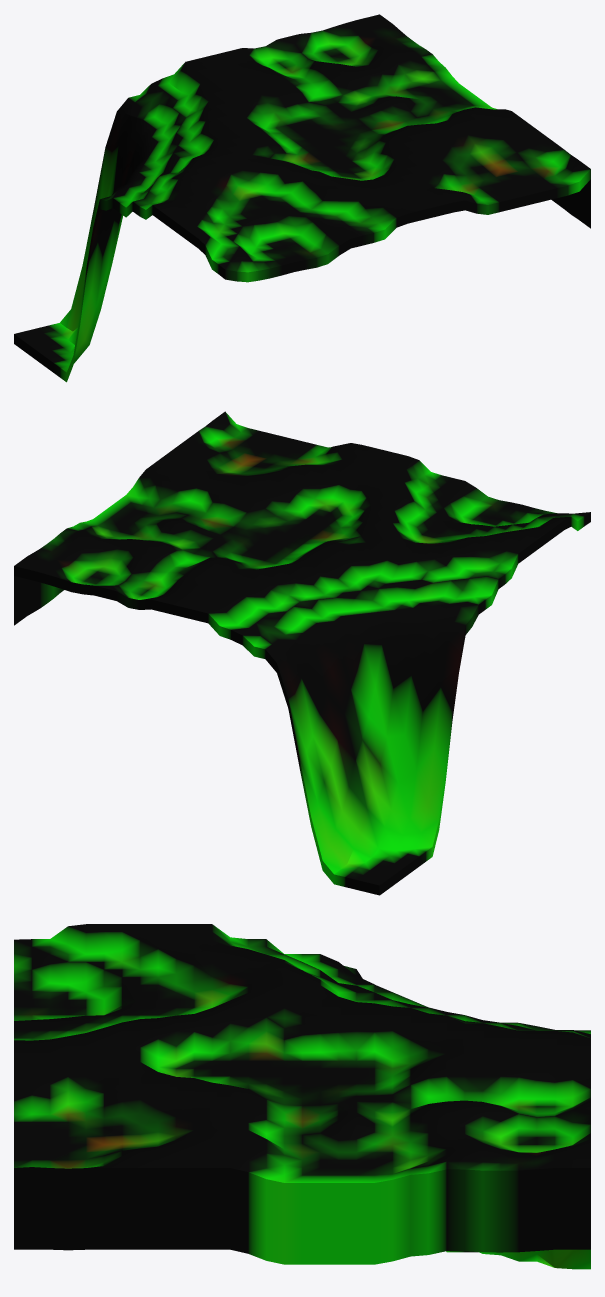
File: Terrain_06_00.fbx
The picture shows the model from 3 angles, top to bottom: view 1: azimuth 30°, elevation 25°; view 2: azimuth 150°, elevation 25°; view 3: azimuth 270°, elevation 25°; orthographic projection. The views are drawn at different scales.
Visible parts, largest first — view 1: Terrain_06_00_LOD0; view 2: Terrain_06_00_LOD0; view 3: Terrain_06_00_LOD0.
Boxes of the visible parts, box(x1,y1,x2,y2) form: Terrain_06_00_LOD0: box(14, 14, 590, 382); Terrain_06_00_LOD0: box(14, 411, 590, 895); Terrain_06_00_LOD0: box(14, 924, 590, 1269).
Size of what is drawn, in the model's own units: 384 by 241 by 384.
